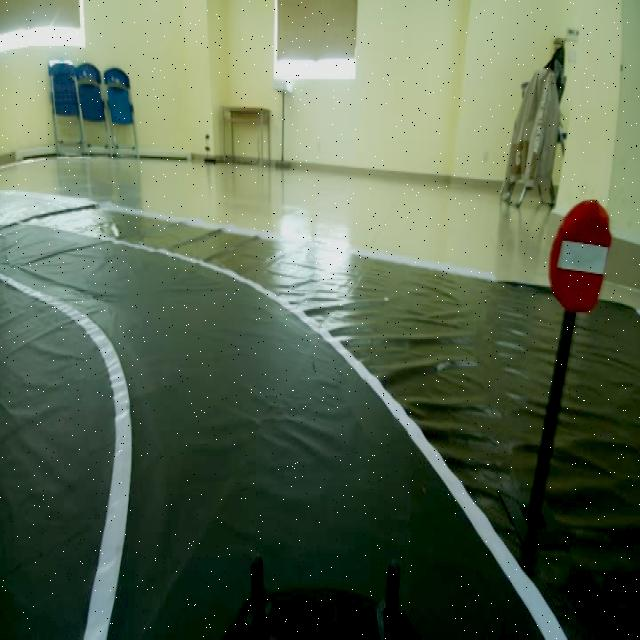no_entry: (544, 181, 612, 320)
